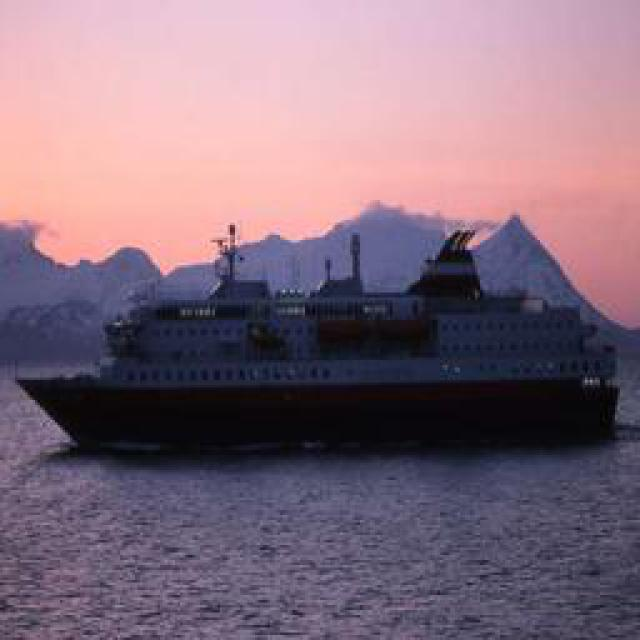Ship: (17, 219, 627, 449)
